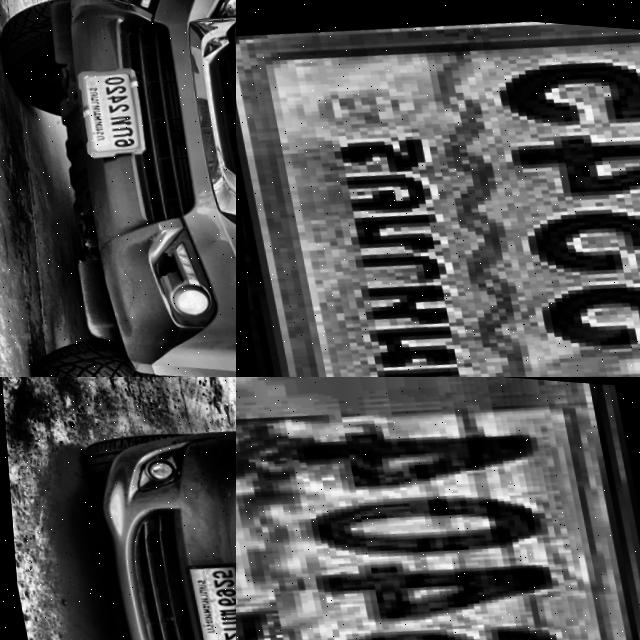license-plate: (236, 0, 640, 377), (236, 377, 640, 640), (61, 56, 150, 165), (176, 556, 236, 640)
